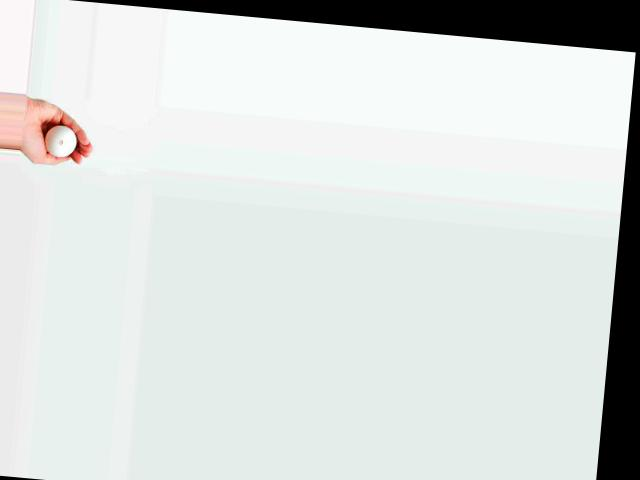egg: (44, 124, 78, 157)
